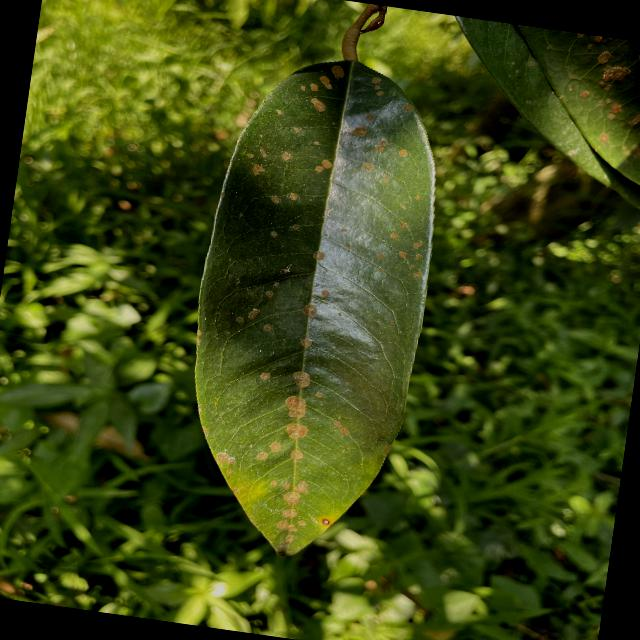Algal Leaf Spot: (156, 33, 466, 577)
